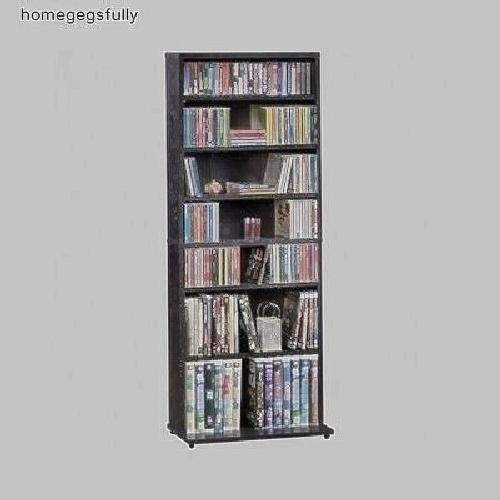cabinet: (161, 38, 339, 462)
